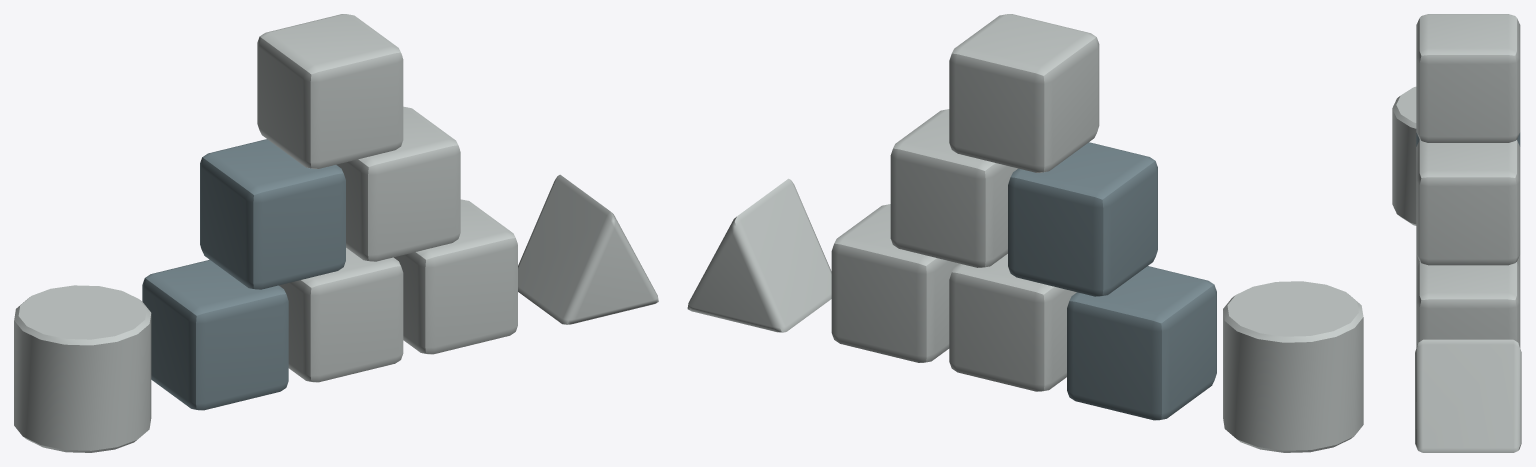
Rendered from toy-blocks.glb.
3 renders of one model, left to right at view 1: azimuth 30°, elevation 25°; view 2: azimuth 150°, elevation 25°; view 3: azimuth 270°, elevation 25°, orthographic. The views are drawn at different scales.
Visible parts, largest first — view 1: round_block, toy_cube_5, toy_cube_3, toy_cube_0, toy_cube_2, toy_cube_4, triangle_block, toy_cube_1; view 2: round_block, toy_cube_5, toy_cube_0, toy_cube_3, toy_cube_2, toy_cube_4, triangle_block, toy_cube_1; view 3: toy_cube_5, toy_cube_4, triangle_block, toy_cube_2, round_block.
Part boxes in pixels (box(x1,y1,x2,y2)): round_block: box(14, 285, 151, 452); toy_cube_5: box(257, 14, 403, 168); toy_cube_3: box(200, 139, 345, 289); toy_cube_0: box(142, 259, 288, 410); toy_cube_2: box(394, 199, 517, 354); toy_cube_4: box(336, 106, 460, 261); triangle_block: box(518, 174, 658, 324); toy_cube_1: box(279, 248, 403, 382); round_block: box(1223, 281, 1363, 452); toy_cube_5: box(949, 14, 1099, 172); toy_cube_0: box(1067, 266, 1216, 420); toy_cube_3: box(1008, 142, 1157, 296); toy_cube_2: box(831, 204, 959, 362); toy_cube_4: box(890, 109, 1017, 267); triangle_block: box(687, 178, 831, 332); toy_cube_1: box(949, 254, 1076, 391); toy_cube_5: box(1416, 14, 1520, 142); toy_cube_4: box(1416, 140, 1520, 265); triangle_block: box(1415, 339, 1521, 452); toy_cube_2: box(1416, 262, 1520, 347); round_block: box(1392, 86, 1416, 225).
Bounding box in the file's own units: 0.4847 × 0.239 × 0.097.
